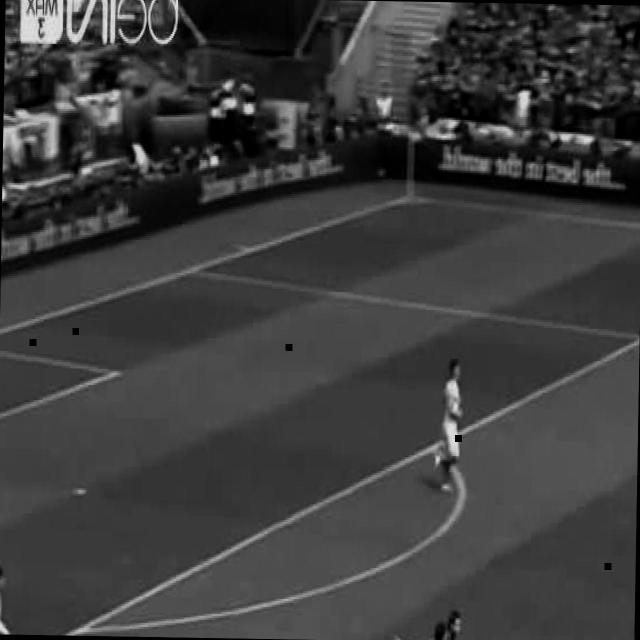player-white: (430, 357, 465, 499), (395, 609, 465, 640), (0, 565, 26, 634), (394, 619, 456, 640)
